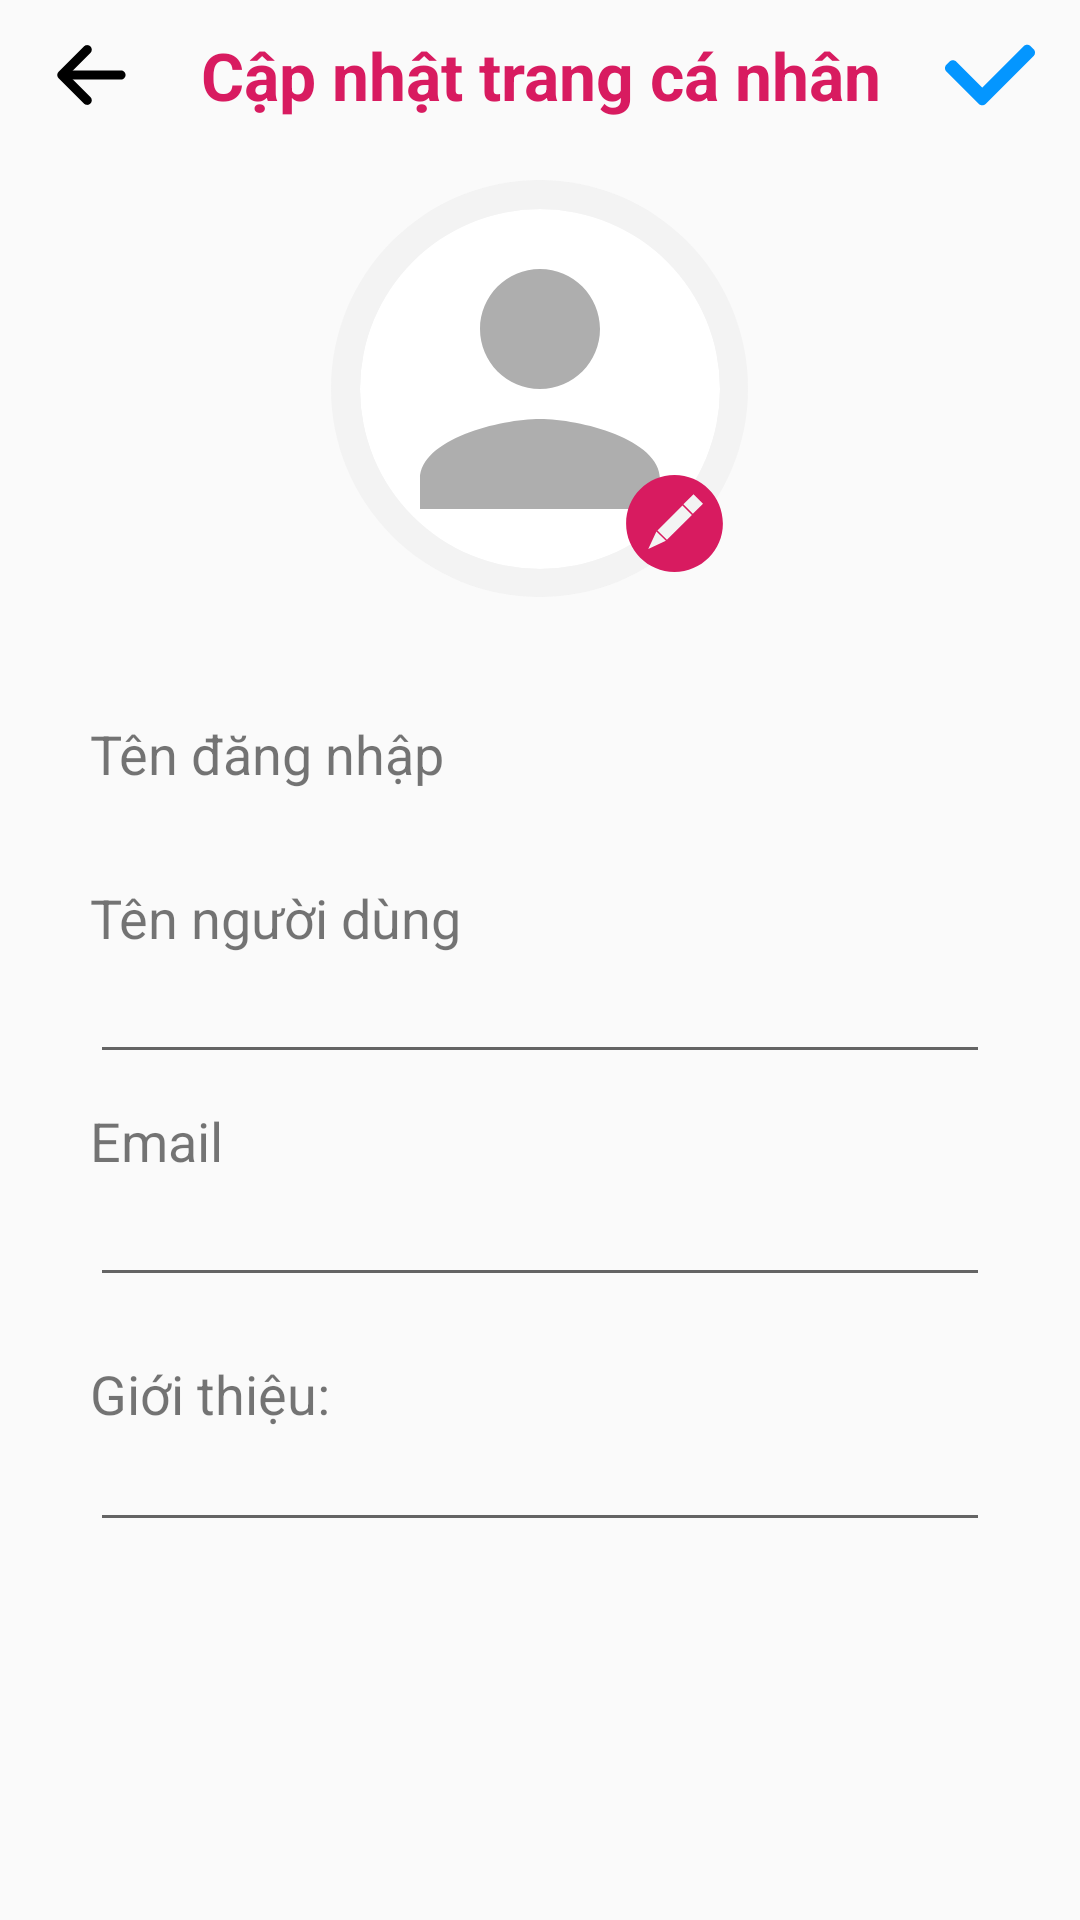

Icons on this 1080x1920 Android screen, each with its box as (x1, y1, x2, y2):
confirm: (945, 44, 1035, 106)
person: (360, 209, 720, 569)
